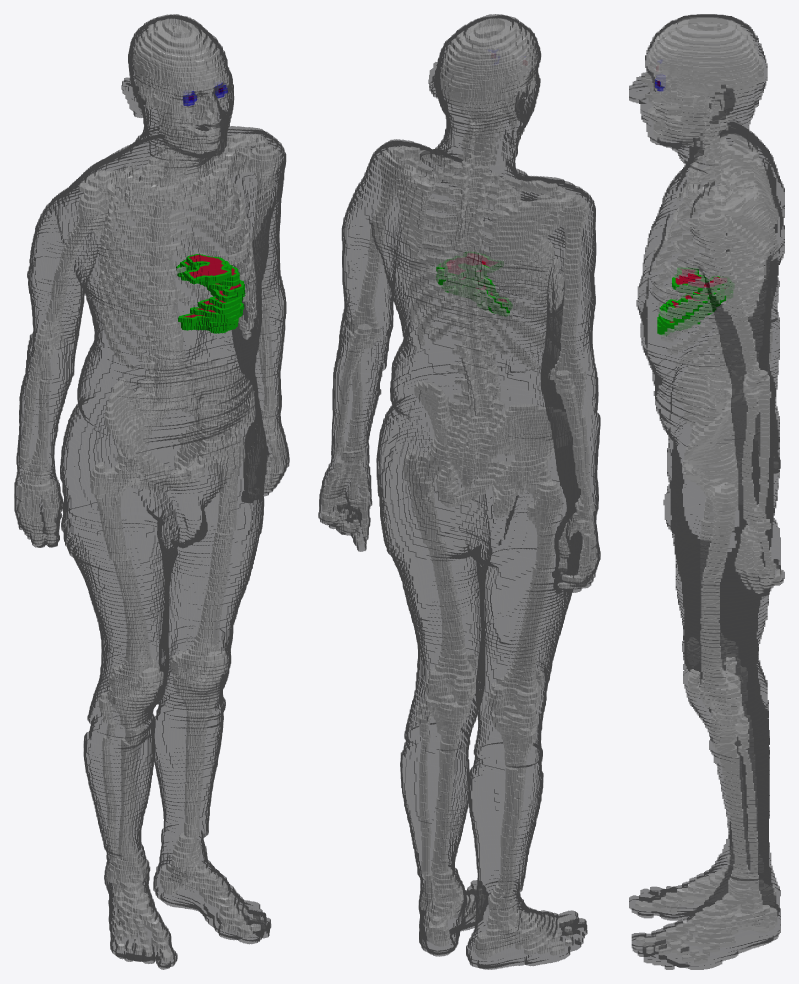
The model's file is voxel.glb.
3 views of the same model, side by side, from view 1: azimuth 30°, elevation 25°; view 2: azimuth 150°, elevation 25°; view 3: azimuth 270°, elevation 25° (orthographic).
Visible parts, largest first — view 1: 0, 99, 72, 73; view 2: 0, 99, 72; view 3: 0, 99, 72, 73.
Part boxes in pixels (<box>): 0: <box>14,14,289,969</box>; 99: <box>18,18,287,961</box>; 72: <box>176,254,245,333</box>; 73: <box>183,254,241,317</box>; 0: <box>318,14,600,969</box>; 99: <box>321,18,597,959</box>; 72: <box>436,252,511,316</box>; 0: <box>629,14,784,969</box>; 99: <box>635,17,782,964</box>; 72: <box>657,268,732,335</box>; 73: <box>669,269,721,322</box>.
Bounding box in the file's own units: 0.9228 × 2.99 × 0.4613.
